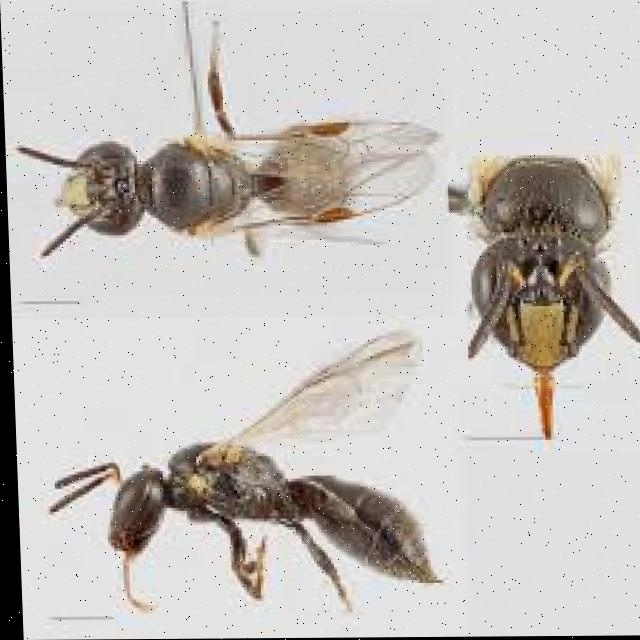Braunsapis: (26, 309, 453, 639), (26, 79, 410, 262), (445, 145, 640, 476)
